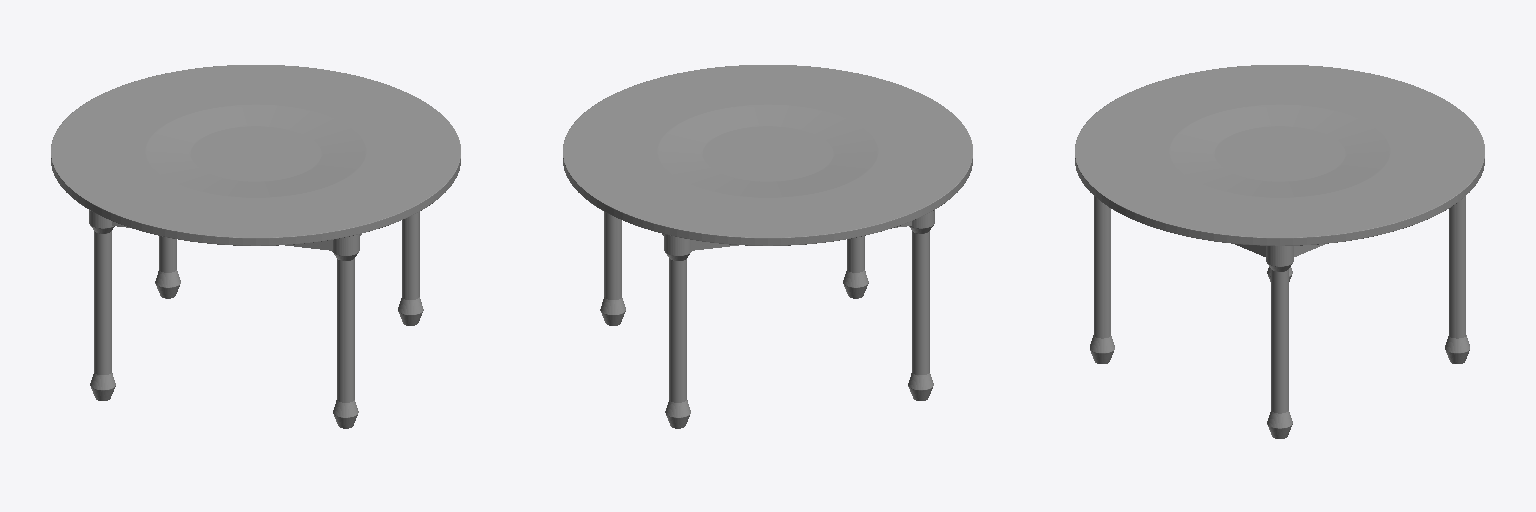
Rendered from mesaRedonda.obj.
3 renders of one model, left to right at view 1: azimuth 30°, elevation 25°; view 2: azimuth 150°, elevation 25°; view 3: azimuth 270°, elevation 25°, orthographic.
Parts seen in each view (by area): view 1: Table_Circle.004, Leg_Cylinder.001; view 2: Table_Circle.004, Leg_Cylinder.001; view 3: Table_Circle.004, Leg_Cylinder.001.
Boxes of the visible parts, x1=… form: Table_Circle.004: x1=51, y1=65, x2=460, y2=245; Leg_Cylinder.001: x1=89, y1=210, x2=423, y2=428; Table_Circle.004: x1=563, y1=65, x2=972, y2=245; Leg_Cylinder.001: x1=600, y1=210, x2=934, y2=428; Table_Circle.004: x1=1075, y1=65, x2=1484, y2=245; Leg_Cylinder.001: x1=1090, y1=196, x2=1469, y2=438.
Size of the model in its own units: 2.59 by 1.46 by 2.59.